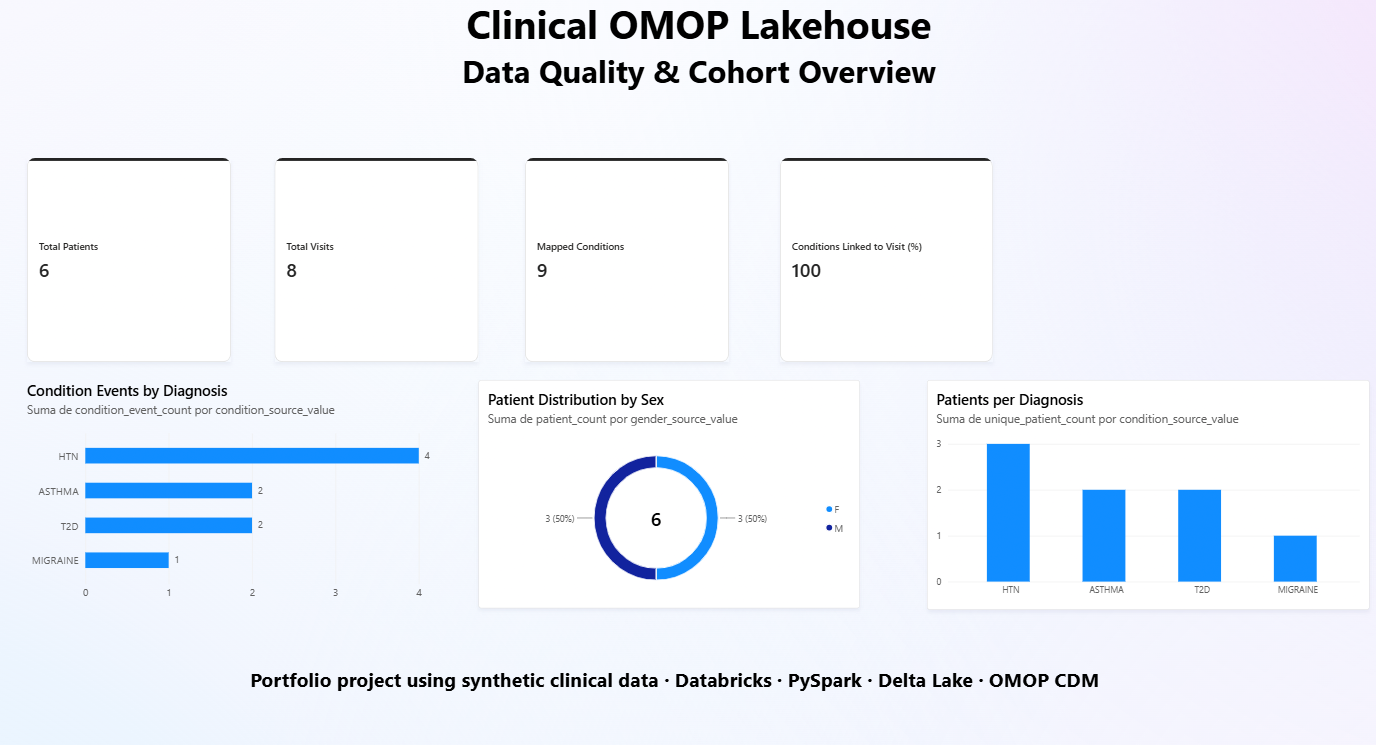

This screenshot's page, from the dashboard's own definition file:
{"tool":"powerbi","page":{"name":"Página 1","canvas":[1920,1080],"ordinal":0},"visuals":[{"type":"cardVisual","fields":{"Data":["quality_metrics.Total Patients"]},"box":[50,260,280,280],"z":0},{"type":"cardVisual","fields":{"Data":["quality_metrics.Total Visits"]},"box":[390,260,280,280],"z":1000},{"type":"cardVisual","fields":{"Data":["quality_metrics.Mapped Conditions"]},"box":[733.3,260,280,280],"z":2000},{"type":"actionButton","box":[0,0,100,40],"z":3000},{"type":"cardVisual","fields":{"Data":["quality_metrics.Conditions Linked to Visit (%)"]},"box":[1083.3,260,292.5,280],"z":4000},{"type":"clusteredBarChart","title":"Condition Events by Diagnosis","fields":{"Category":["condition_summary.condition_source_value"],"Y":["Sum(condition_summary.condition_event_count)"]},"box":[50,565,556.7,306.7],"z":5000},{"type":"donutChart","title":"Patient Distribution by Sex","fields":{"Category":["cohort_demographics.gender_source_value"],"Y":["Sum(cohort_demographics.patient_count)"]},"box":[670,565,523.3,313.3],"z":6000},{"type":"textbox","box":[560,40,743.3,210],"z":8000},{"type":"clusteredColumnChart","title":"Patients per Diagnosis","fields":{"Category":["condition_summary.condition_source_value"],"Y":["Sum(condition_summary.unique_patient_count)"]},"box":[1285,565,607.5,315],"z":9000},{"type":"textbox","box":[262.5,957.5,1350,65],"z":9001}]}

Visuals, with their boxes on the page's 1920x1080 design canvas (x1, y1, x2, y2). These are canvas units, not pixel positions in the 1376x745 screenshot, which may show the page scaled, cropped or inside an application window:
cardVisual - quality_metrics.Total Patients: <bbox>50, 260, 330, 540</bbox>
cardVisual - quality_metrics.Total Visits: <bbox>390, 260, 670, 540</bbox>
cardVisual - quality_metrics.Mapped Conditions: <bbox>733, 260, 1013, 540</bbox>
actionButton: <bbox>0, 0, 100, 40</bbox>
cardVisual - quality_metrics.Conditions Linked to Visit (%): <bbox>1083, 260, 1376, 540</bbox>
"Condition Events by Diagnosis" clusteredBarChart: <bbox>50, 565, 607, 872</bbox>
"Patient Distribution by Sex" donutChart: <bbox>670, 565, 1193, 878</bbox>
textbox: <bbox>560, 40, 1303, 250</bbox>
"Patients per Diagnosis" clusteredColumnChart: <bbox>1285, 565, 1892, 880</bbox>
textbox: <bbox>262, 958, 1612, 1022</bbox>
